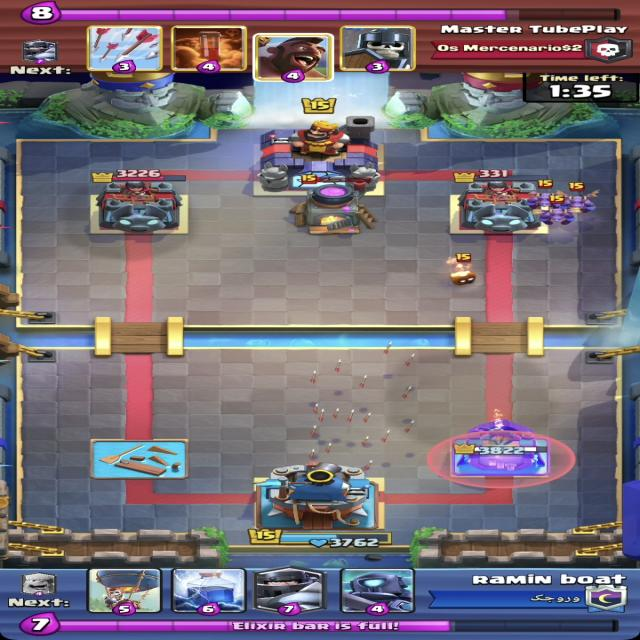Enemy-FireSpirit: (446, 252, 478, 286)
Enemy-Furnace: (289, 174, 379, 235)
Enemy-Minion: (554, 182, 601, 212), (527, 179, 566, 210), (539, 194, 576, 226)
